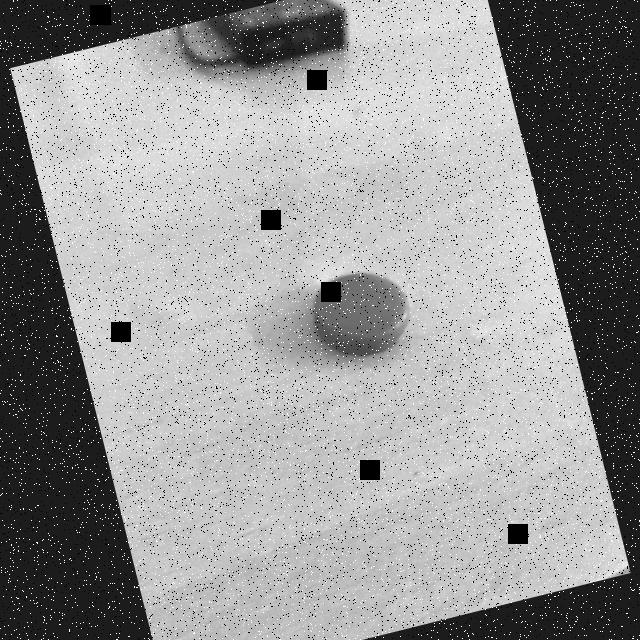plastic_bottle_cap: (295, 252, 427, 372)
